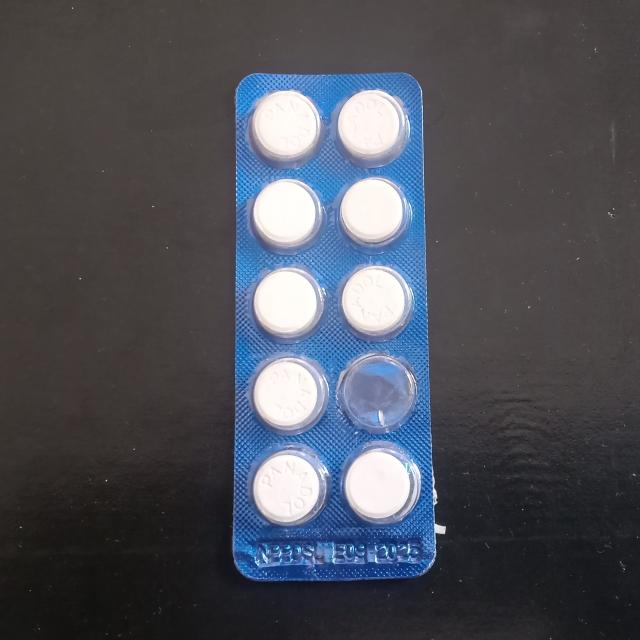defect: (334, 348, 423, 441)
